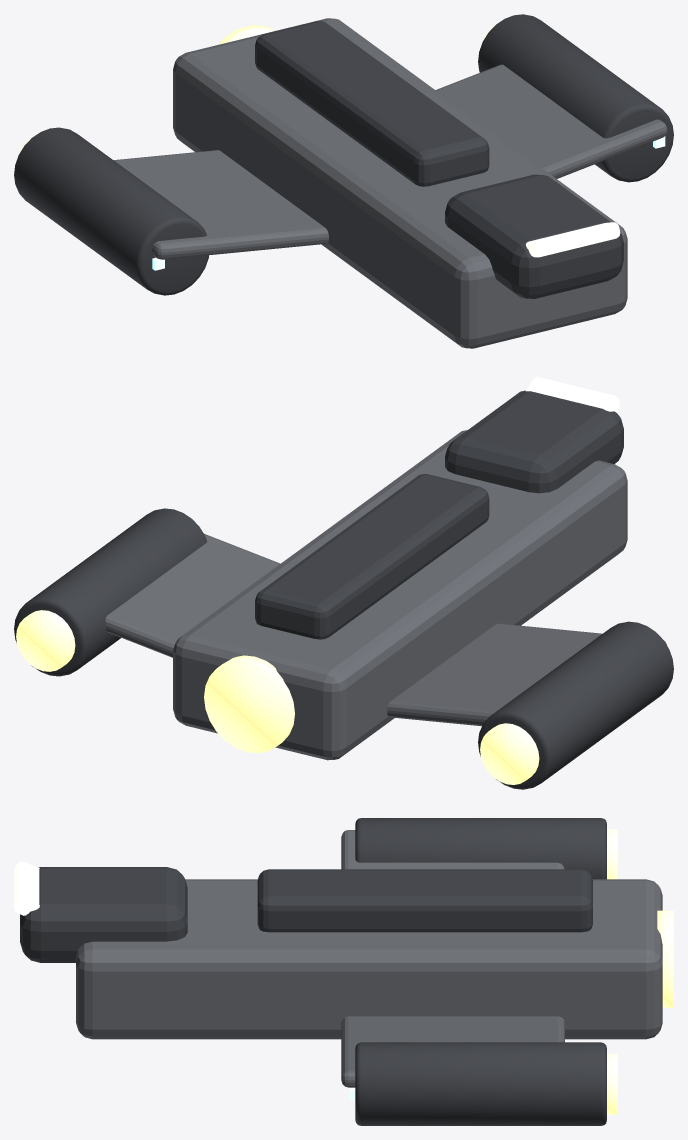
File: shuttle.glb
3 views of the same model, one above another, from view 1: azimuth 30°, elevation 25°; view 2: azimuth 150°, elevation 25°; view 3: azimuth 270°, elevation 25° (orthographic).
Parts seen in each view (by area): view 1: Rumpf, Ruecken, Gondel.-1, Cockpit, Fluegel.-1, Gondel.1, Fluegel.1, Cockpitfenster; view 2: Rumpf, Ruecken, Gondel.-1, Cockpit, Gondel.1, Fluegel.-1, Fluegel.1, Hauptduese, Duese.1, Duese.-1, Cockpitfenster; view 3: Rumpf, Ruecken, Gondel.1, Cockpit, Gondel.-1, Fluegel.1, Fluegel.-1, Hauptduese, Cockpitfenster, Duese.1, Duese.-1.
Part boxes in pixels (box(x1,y1,x2,y2)): Rumpf: box(173, 18, 627, 348); Ruecken: box(255, 21, 489, 186); Gondel.-1: box(14, 127, 208, 295); Cockpit: box(445, 174, 623, 298); Fluegel.-1: box(113, 150, 328, 259); Gondel.1: box(478, 14, 673, 182); Fluegel.1: box(435, 64, 667, 178); Cockpitfenster: box(526, 222, 620, 257); Rumpf: box(173, 430, 627, 760); Ruecken: box(255, 474, 489, 639); Gondel.-1: box(478, 621, 673, 789); Cockpit: box(445, 390, 623, 493); Gondel.1: box(14, 508, 206, 676); Fluegel.-1: box(387, 623, 666, 726); Fluegel.1: box(105, 533, 280, 657); Hauptduese: box(204, 655, 294, 753); Duese.1: box(16, 610, 75, 671); Duese.-1: box(480, 723, 539, 784); Cockpitfenster: box(526, 377, 620, 412); Rumpf: box(76, 879, 662, 1039); Ruecken: box(257, 869, 592, 932); Gondel.1: box(355, 1042, 606, 1125); Cockpit: box(20, 867, 187, 962); Gondel.-1: box(355, 818, 606, 879); Fluegel.1: box(341, 1016, 564, 1087); Fluegel.-1: box(341, 830, 564, 869); Hauptduese: box(657, 910, 673, 1007); Cockpitfenster: box(14, 861, 39, 915); Duese.1: box(607, 1053, 617, 1114); Duese.-1: box(607, 829, 617, 879).
Size of the model in its own units: 4.4 by 1.03 by 4.72.
